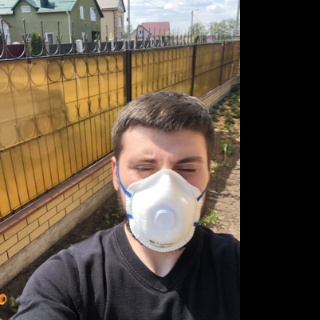with_mask: (120, 143, 208, 252)
